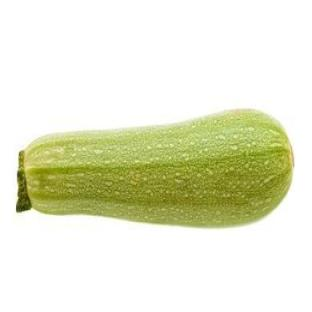Zucchini: (17, 110, 293, 225)
